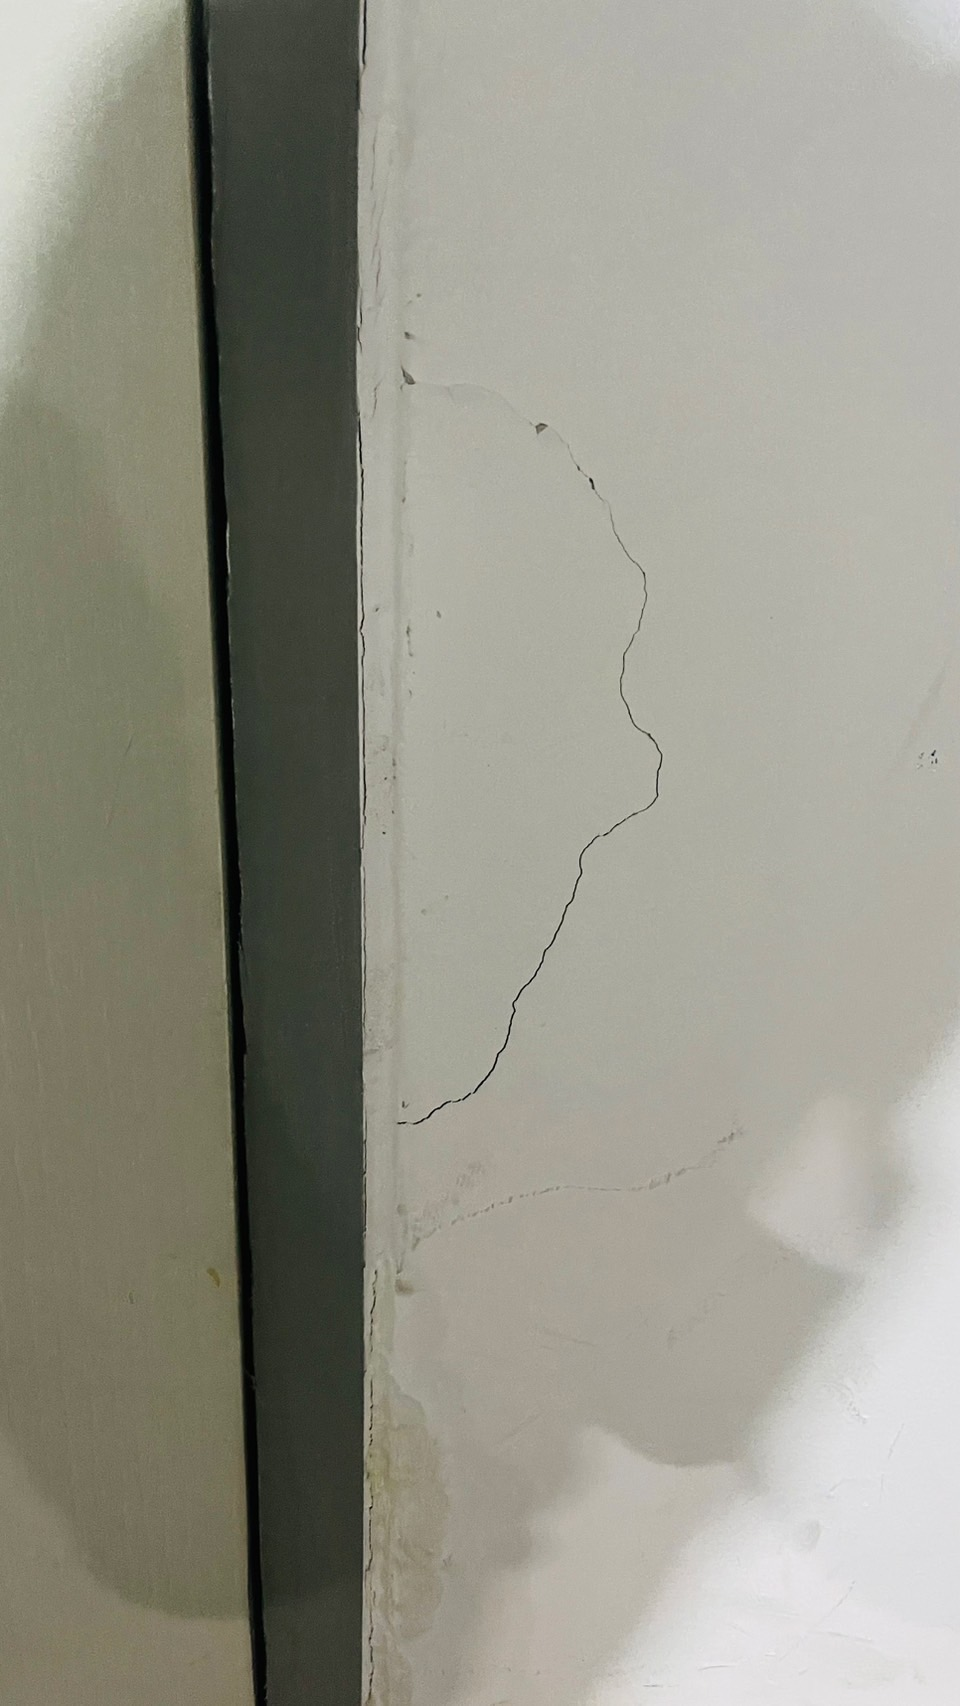Low: (367, 299, 755, 1256)
